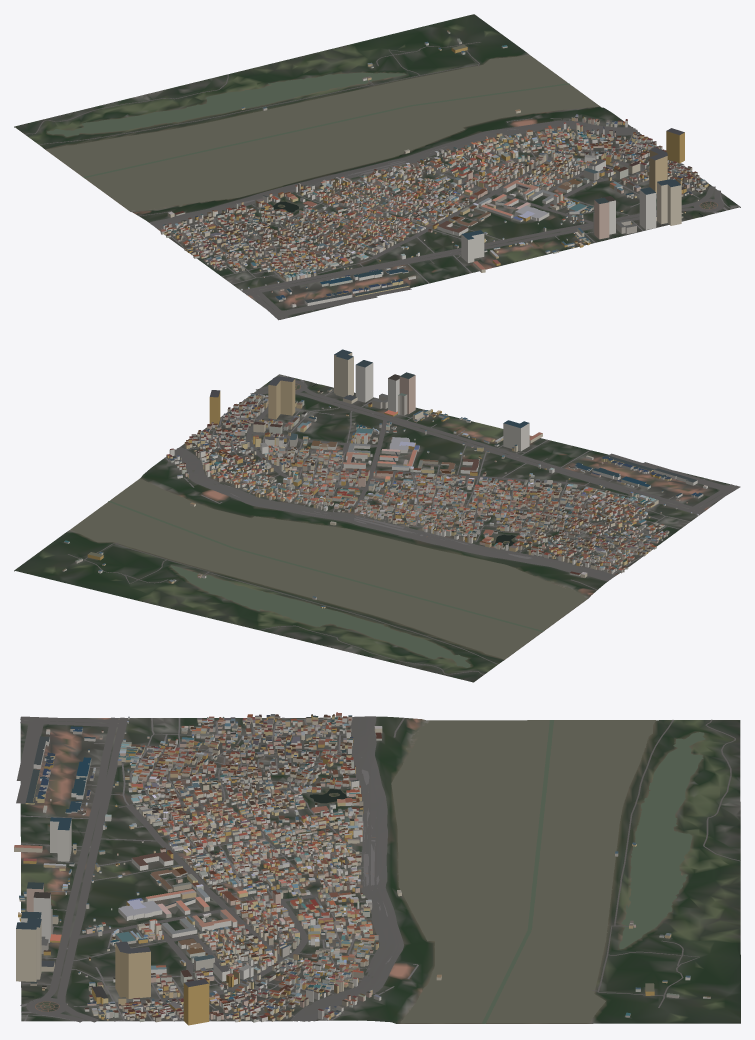
3 views of the same model, one above another, from view 1: azimuth 30°, elevation 25°; view 2: azimuth 150°, elevation 25°; view 3: azimuth 270°, elevation 25° (orthographic). The views are drawn at different scales.
Visible parts, largest first — view 1: ground, water, buildings, roads; view 2: ground, water, buildings, roads; view 3: ground, water, buildings, roads.
Boxes of the visible parts, left/top/right/bottom form: ground: left=14, top=14, right=740, bottom=318; water: left=46, top=55, right=703, bottom=216; buildings: left=160, top=30, right=708, bottom=307; roads: left=24, top=42, right=739, bottom=320; ground: left=14, top=374, right=734, bottom=682; water: left=71, top=383, right=587, bottom=667; buildings: left=62, top=349, right=707, bottom=608; roads: left=68, top=375, right=740, bottom=674; ground: left=20, top=716, right=740, bottom=1023; water: left=21, top=720, right=705, bottom=1023; buildings: left=14, top=712, right=710, bottom=1025; roads: left=16, top=716, right=740, bottom=1022.
Size of the model in its own units: 1424 by 121 by 1416.
